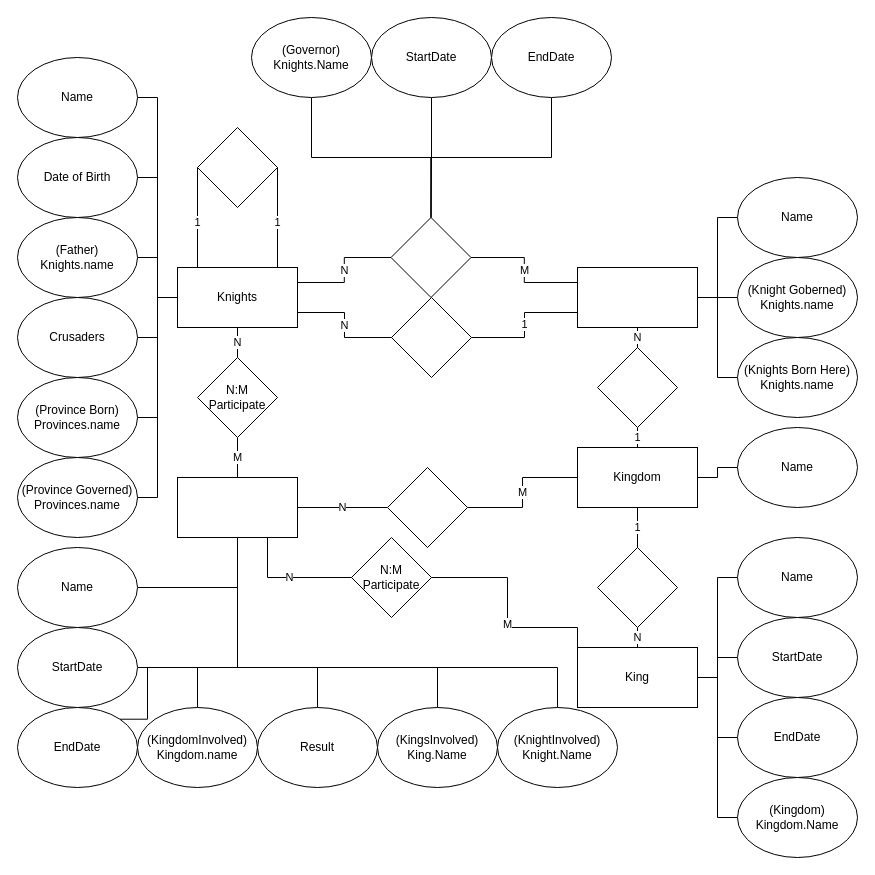
Image size: 875x875. Some labels were removed from this diagram. The centre of each missing label's shape, as x and y in pixels:
"1:1 Is father of" goes at point (237, 167).
"1:N Are in" goes at point (637, 387).
"1:N Born" goes at point (431, 337).
"1:N Reigns" goes at point (637, 587).
"Crusades" goes at point (237, 507).
"N:M GetInvolved" goes at point (427, 507).
"N:M Goberned" goes at point (430, 257).
"Provinces" goes at point (637, 297).
